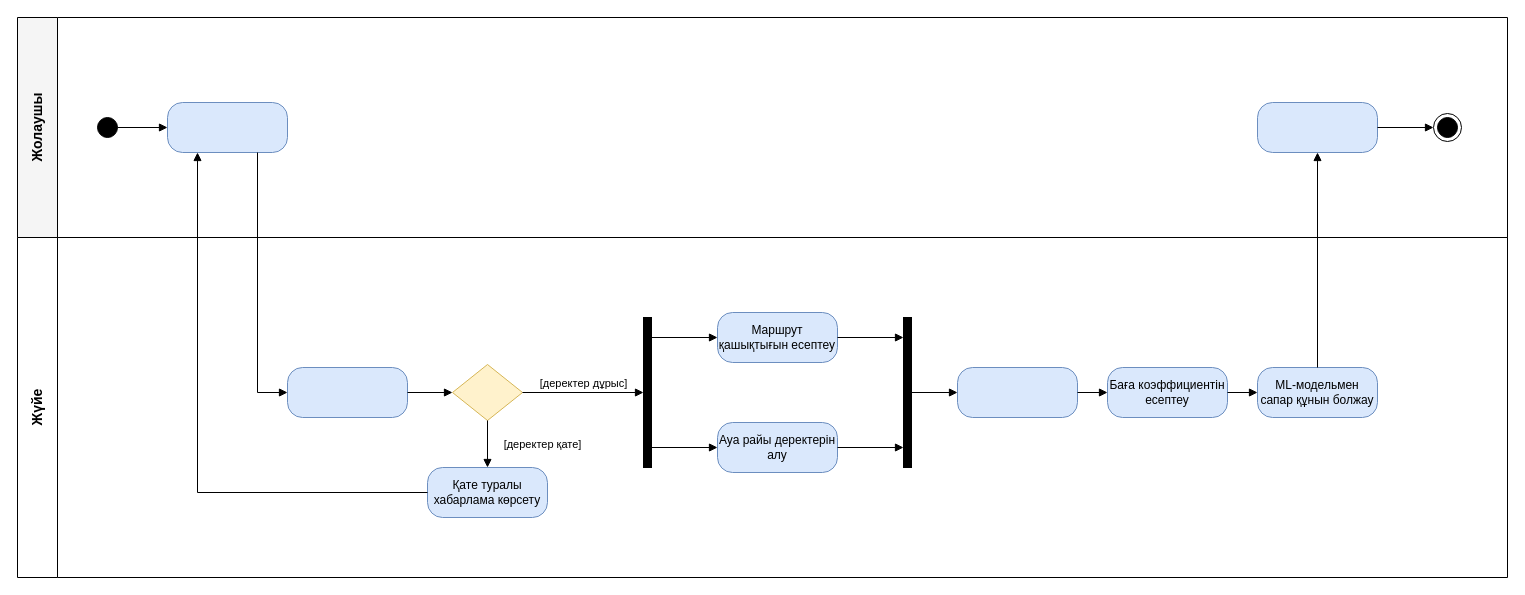
Some shapes in this 1525 by 595 pixel diagram are drawn without their labels. Each missing label, with the centre of its shape:
Бастапқы және соңғы нүктені енгізу: (x=227, y=127)
Болжамды құнды қарау: (x=1317, y=127)
Енгізілген деректерді тексеру: (x=347, y=392)
Сұраныс деңгейін анықтау: (x=1017, y=392)
